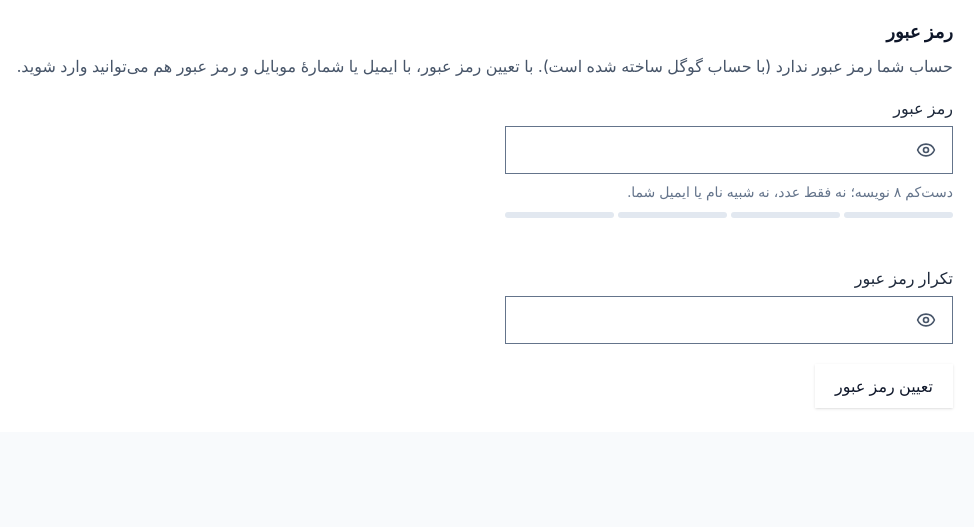
Test: PasswordSection › hides «رمز فعلی» when the account has no password, and sets one («تعیین رمز عبور»)
The width and height of the screenshot is (974, 527).
Expected: the heading "رمز عبور" is shown, [886, 16, 953, 48]
Expected: the text "رمز عبور ندارد" is shown, [17, 56, 953, 76]
Type "Kooh-Damavand-1404" into the password field labelled "رمز عبور" at (705, 150), box [506, 127, 904, 173]
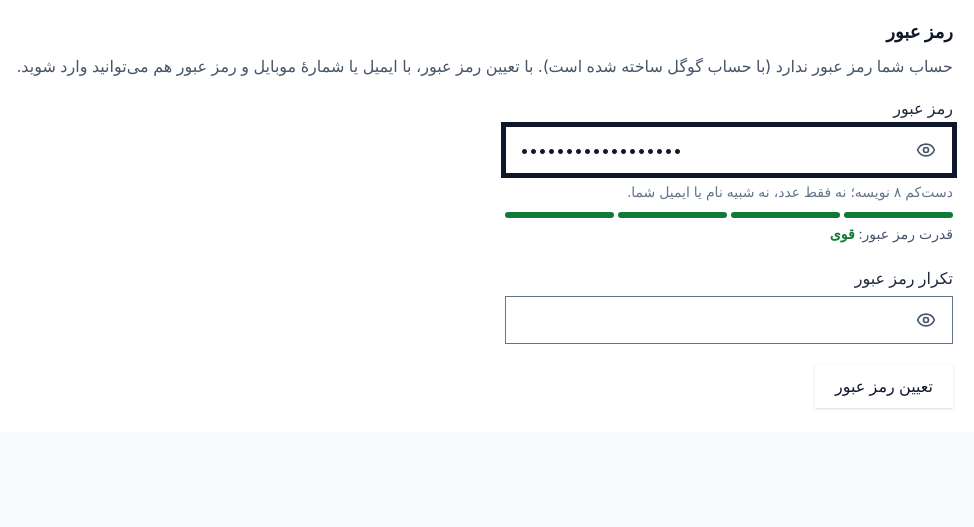
Type "Kooh-Damavand-1404" into the password field labelled "تکرار رمز عبور" at (705, 320), box [506, 297, 904, 343]
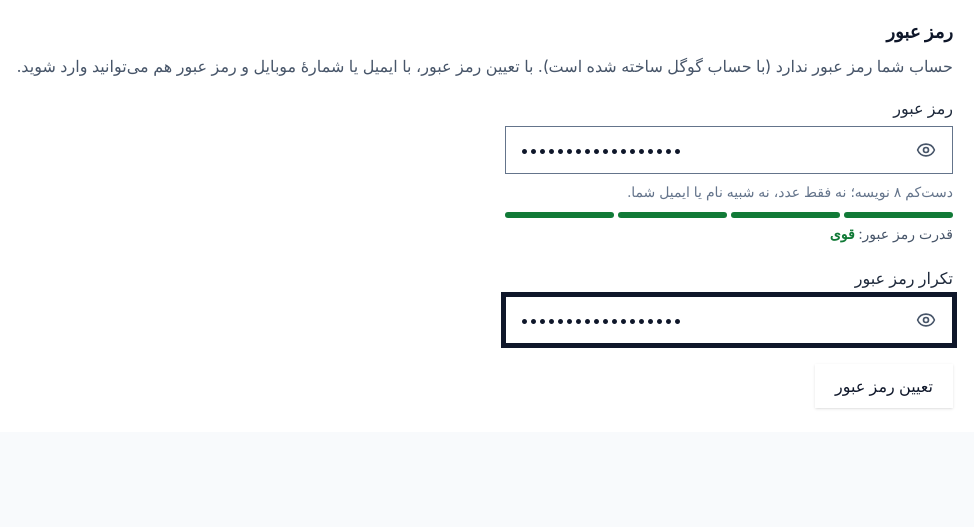
Click the button "تعیین رمز عبور" at (884, 386), box [815, 364, 953, 408]
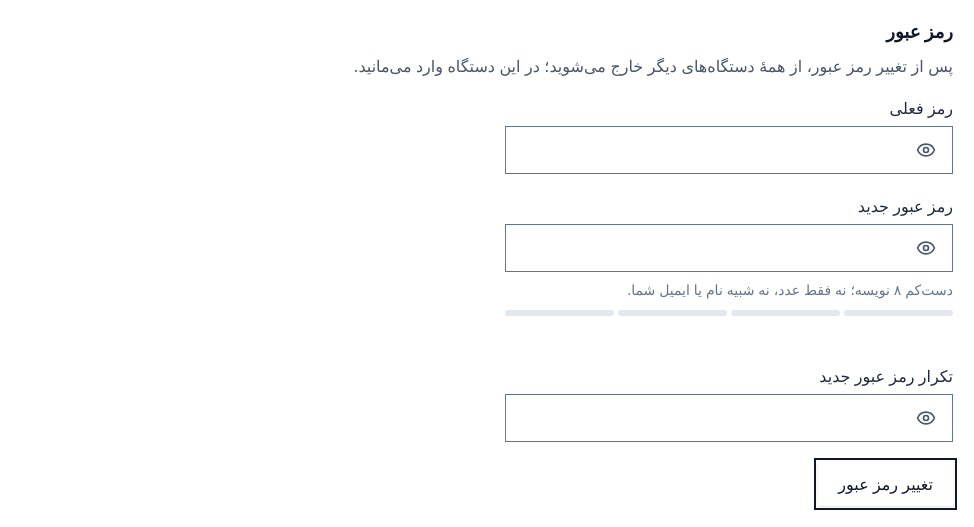
Expected: the password field labelled "رمز فعلی" is empty, [506, 127, 904, 173]
Expected: the button "تغییر رمز عبور" is shown, [818, 462, 953, 506]
